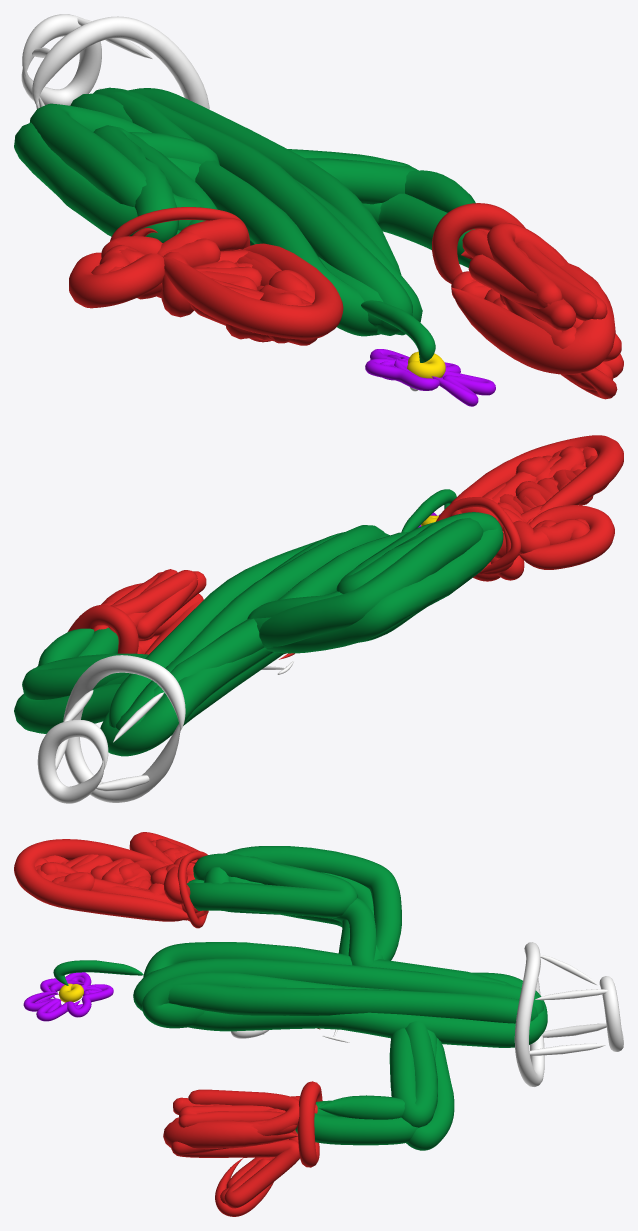
File: boxcactus.glb
3 views of the same model, one above another, from view 1: azimuth 30°, elevation 25°; view 2: azimuth 150°, elevation 25°; view 3: azimuth 270°, elevation 25° (orthographic). The views are drawn at different scales.
Visible parts, largest first — view 1: boxcactus; view 2: boxcactus; view 3: boxcactus.
Boxes of the visible parts, box(x1,y1,x2,y2) form: boxcactus: box(14, 14, 623, 406); boxcactus: box(14, 435, 623, 803); boxcactus: box(14, 832, 623, 1216).
Bounding box in the file's own units: 0.7951 × 0.4229 × 1.06.
1 material, 1 textured.
